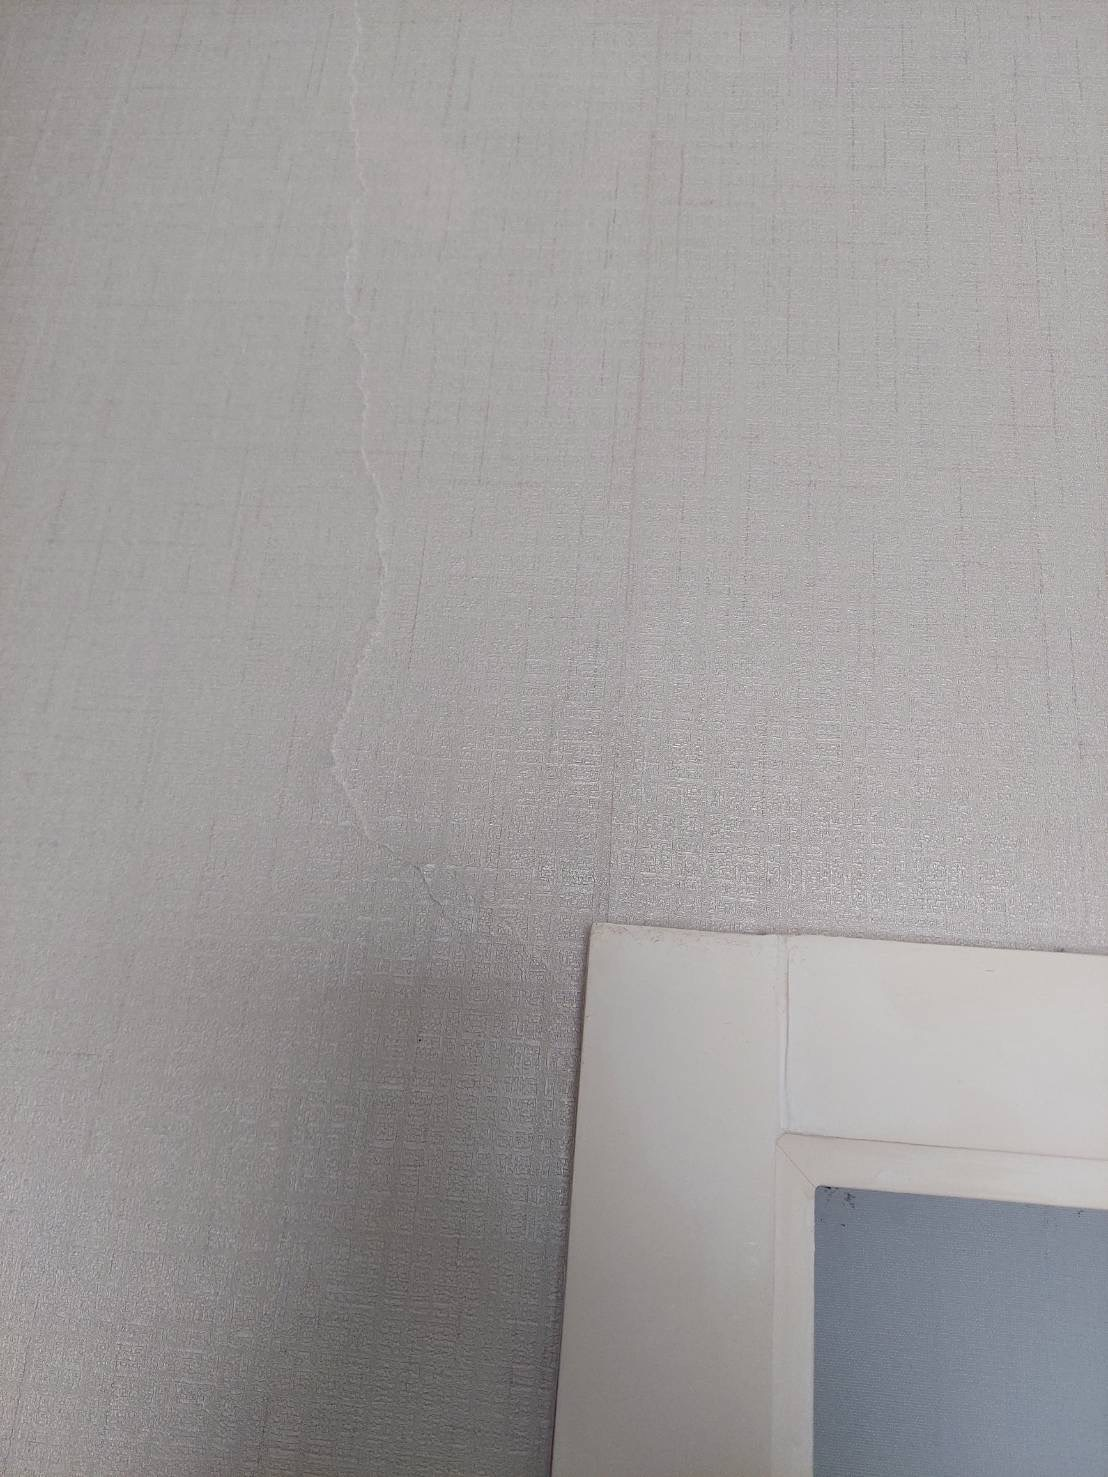Low: (175, 3, 557, 960)
